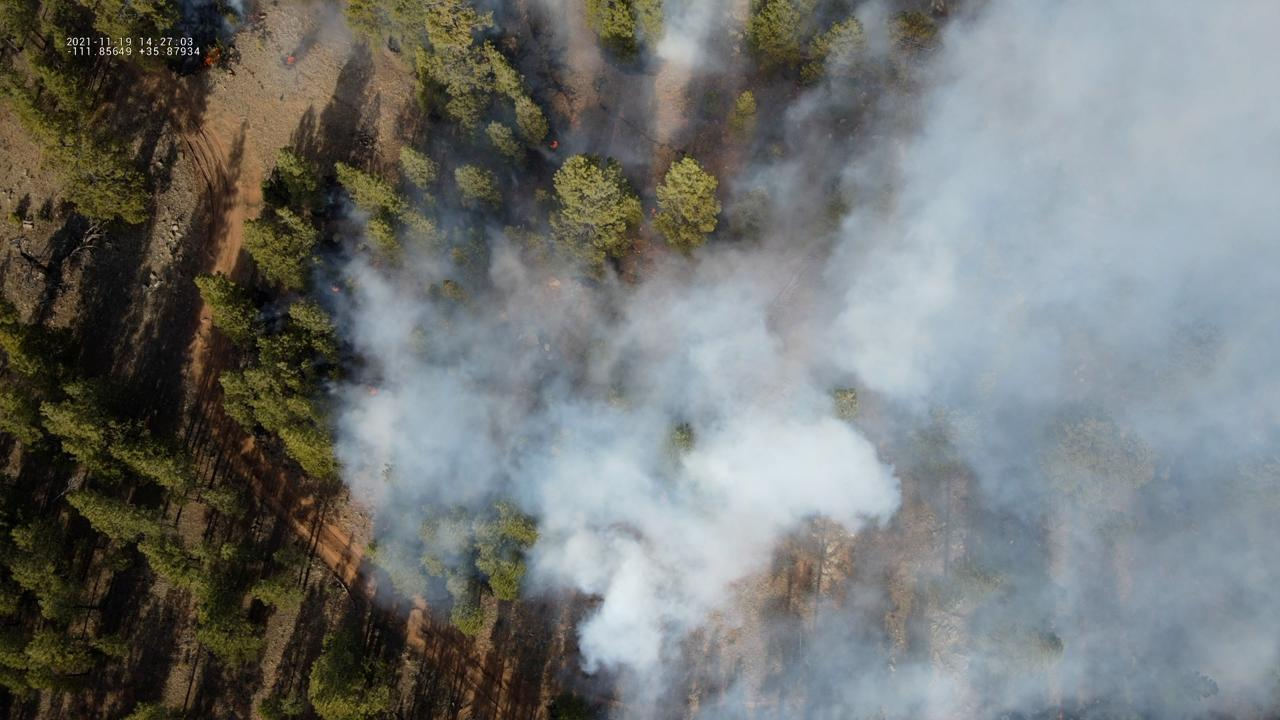fire: (203, 46, 222, 68), (366, 384, 378, 400), (548, 139, 559, 151), (285, 55, 297, 66), (330, 286, 340, 293), (650, 206, 658, 214)
smoke: (253, 3, 1280, 720)
